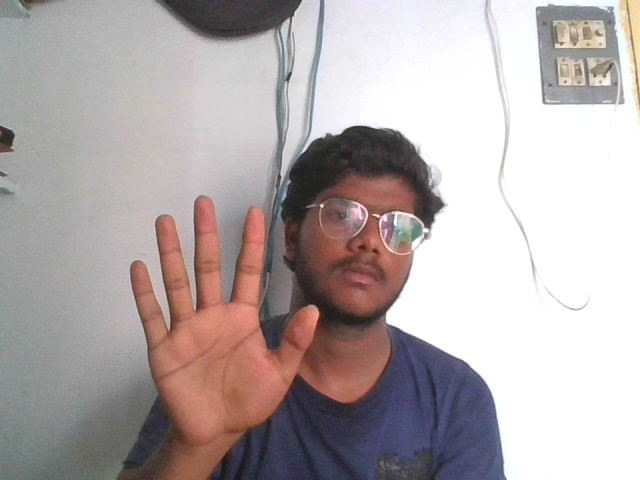Hello: (128, 192, 322, 436)
